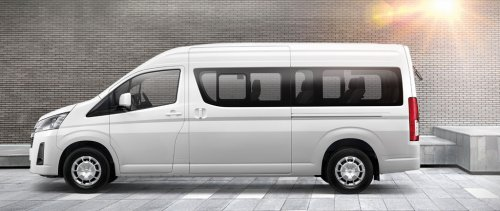van: (27, 40, 425, 194)
